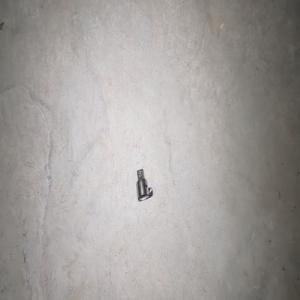MetalPart: (135, 167, 152, 201)
